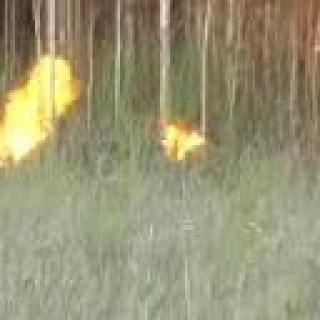fire: (0, 53, 81, 163), (160, 121, 203, 166)
